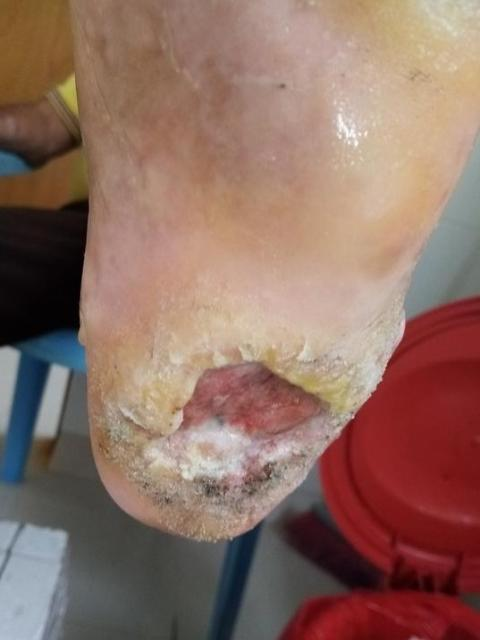wound: (99, 338, 365, 541)
